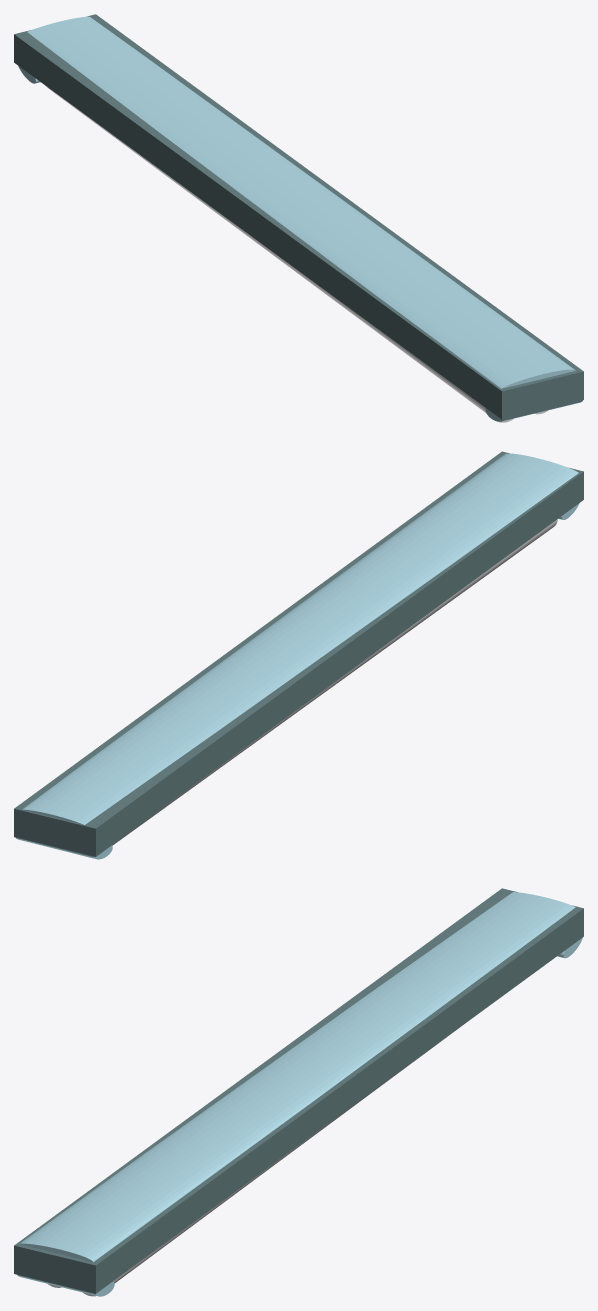
The model's file is LUZ.fbx.
3 renders of one model, top to bottom at view 1: azimuth 30°, elevation 25°; view 2: azimuth 150°, elevation 25°; view 3: azimuth 330°, elevation 25°, orthographic.
Parts seen in each view (by area): view 1: Cylinder.003, Cube, Cylinder.002; view 2: Cylinder.003, Cube, Cylinder.002; view 3: Cylinder.003, Cube, Cylinder.001.
Part boxes in pixels (bbox=[...]): Cylinder.003: bbox=[27, 16, 575, 388]; Cube: bbox=[14, 14, 583, 419]; Cylinder.002: bbox=[46, 86, 513, 422]; Cylinder.003: bbox=[22, 453, 578, 824]; Cube: bbox=[14, 451, 583, 856]; Cylinder.002: bbox=[112, 519, 557, 845]; Cylinder.003: bbox=[19, 892, 575, 1262]; Cube: bbox=[14, 888, 583, 1293]; Cylinder.001: bbox=[83, 1028, 458, 1296].
Bounding box in the file's own units: 45.74 × 28.92 × 472.
